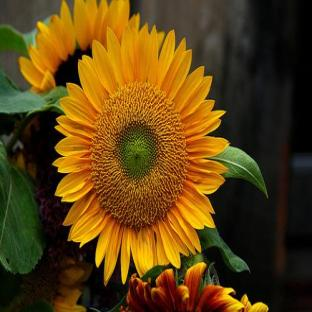sunflower: (52, 14, 229, 286)
